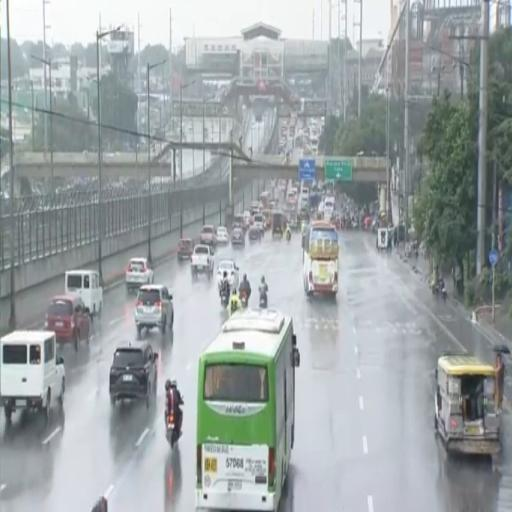bus: (196, 309, 299, 510), (303, 221, 339, 295), (260, 191, 270, 209)
car: (0, 331, 65, 421), (110, 341, 158, 407), (44, 295, 91, 349), (135, 284, 173, 335), (125, 257, 154, 291), (217, 260, 239, 290), (177, 239, 193, 261), (200, 226, 216, 246), (231, 228, 245, 246), (216, 226, 229, 244), (248, 226, 261, 242), (254, 214, 265, 231), (233, 216, 245, 230), (243, 211, 251, 228)
motorcycle: (167, 410, 181, 449), (433, 283, 447, 301), (221, 292, 229, 307), (241, 292, 248, 308), (259, 294, 267, 308), (286, 232, 290, 242)
truck: (191, 245, 214, 279)
